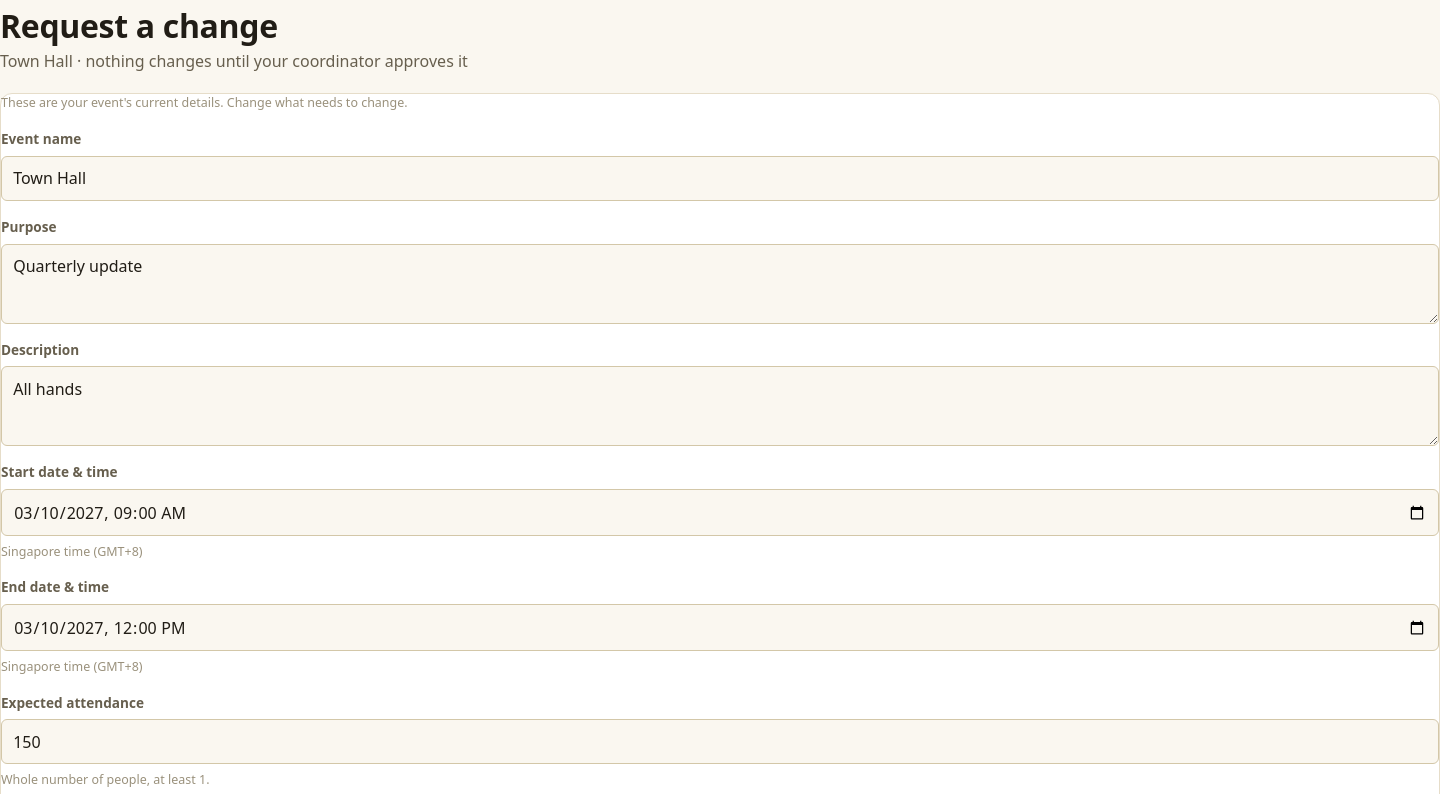
Test case: EO03 — the organiser requests a change › EO03 AC22, AC23, AC24 (happy): the review lists previous → new, warns about arrangements and that a confirmed event goes back to Planning
Replace the text in the number field labelled "Expected attendance" with "200": (720, 742) [1,719,1439,764]
(page scrolled)
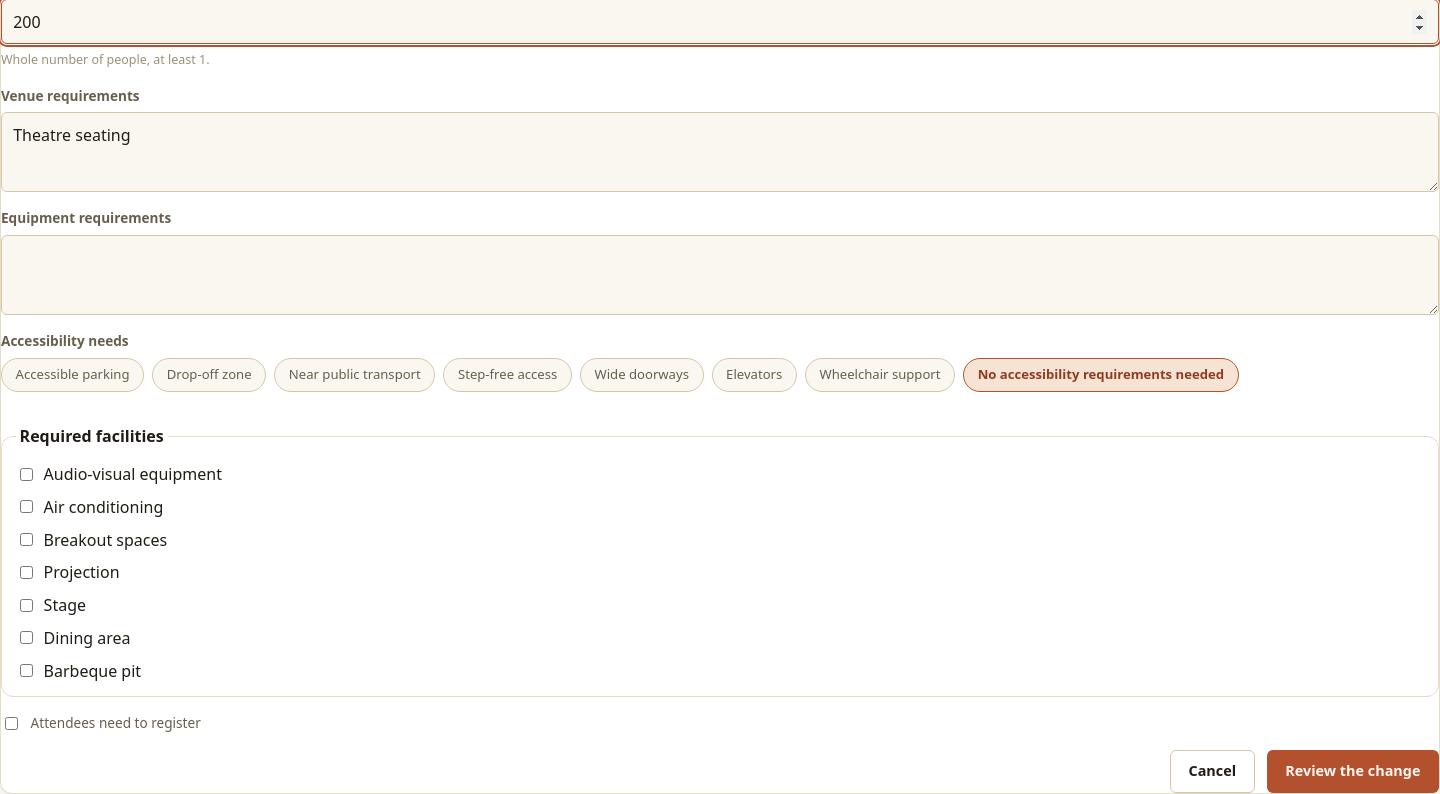
Click the button "Review the change": (1353, 771) [1267,750,1439,793]
(page scrolled)
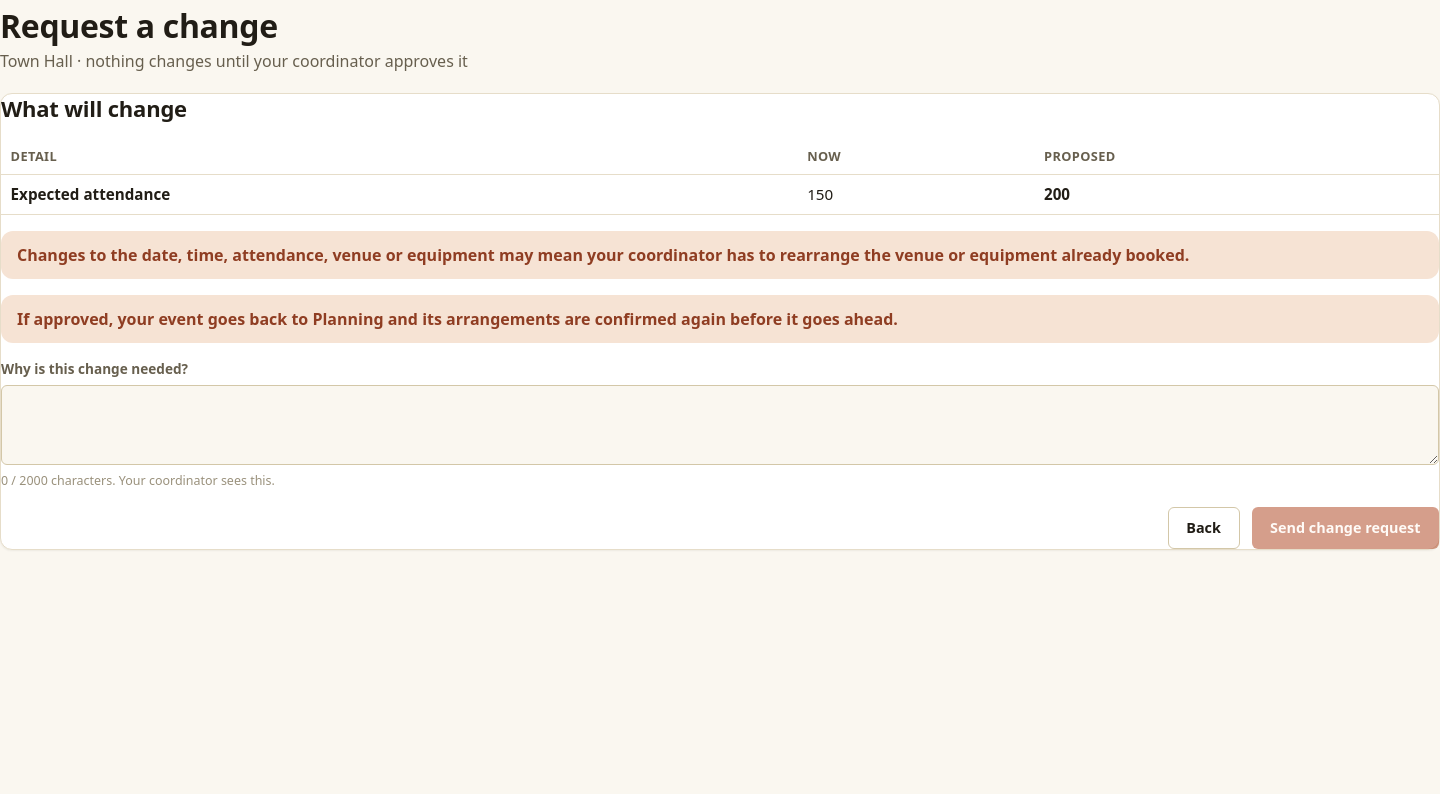
Now the row "Expected attendance 150 200" is shown, box [1,174,1439,214]
Now the number of rows is 2, box [1,139,1439,174]; [1,174,1439,214]
Now the text "may mean your coordinator has to rearrange" is shown, box [17,244,1189,266]
